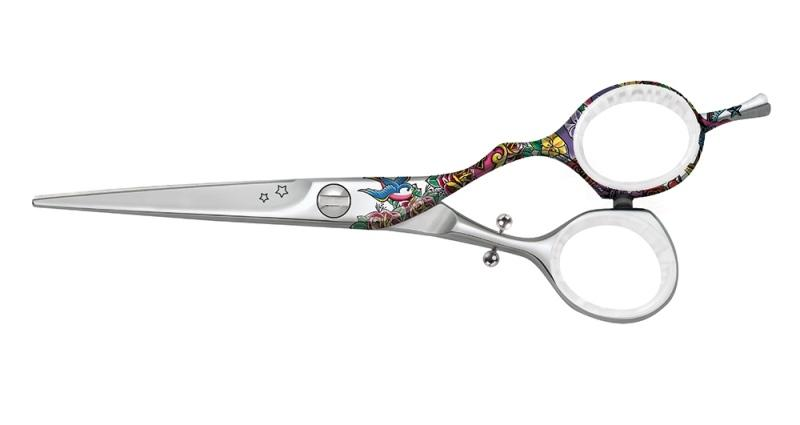scissor: (19, 60, 759, 337)
